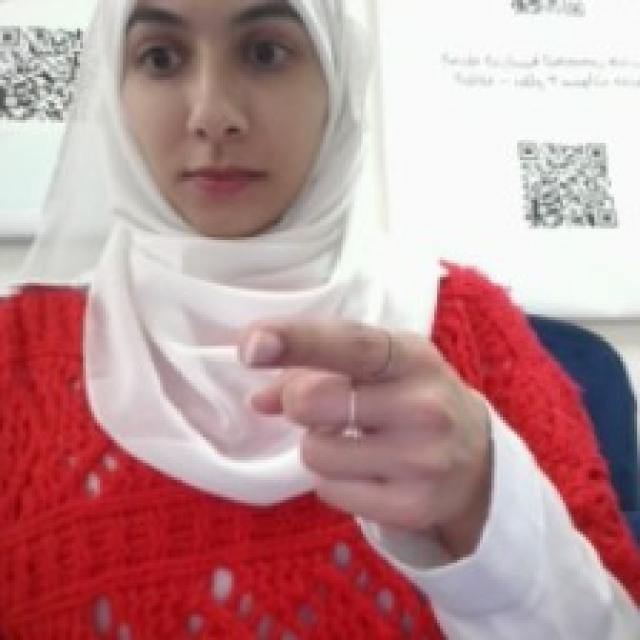you: (235, 303, 494, 537)
